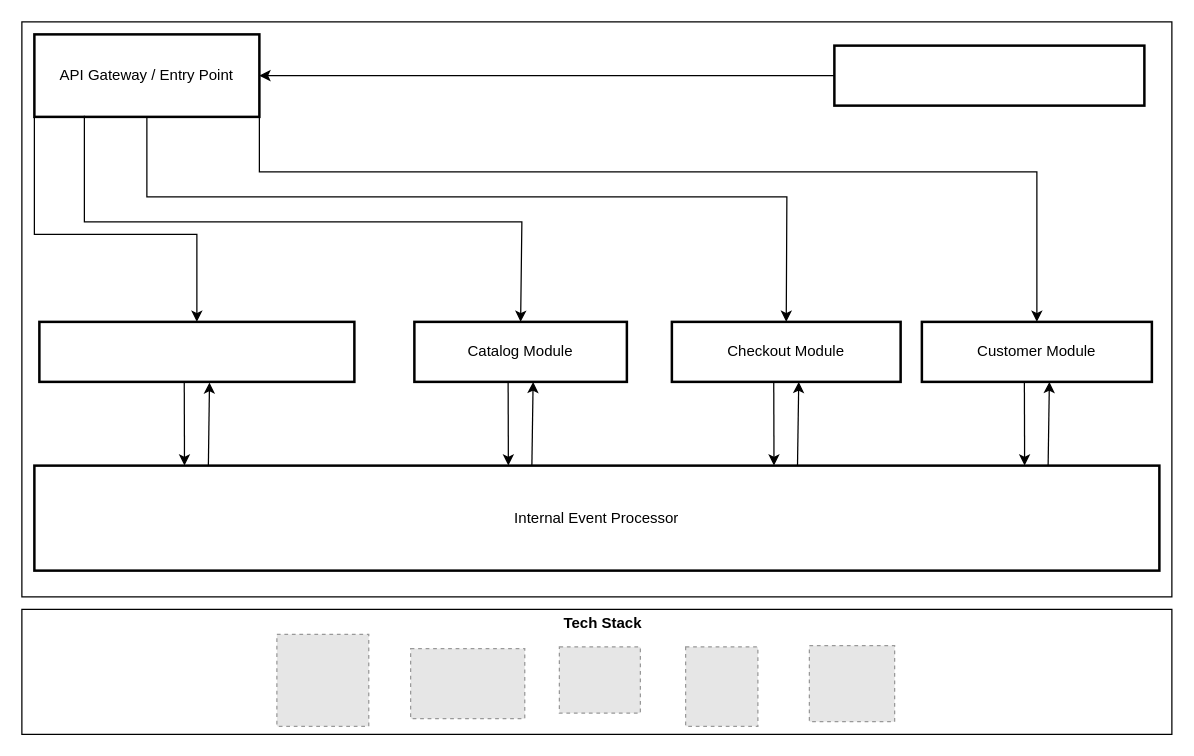
Image size: 1194x756. Some labels were removed from this diagram. Grey dashed boxes stand in for pictures. The centre of each missing label's shape, as x and y in pixels:
Order Management Module: the point at 196,351
Web UI (Admin + Storefront): the point at 988,75
